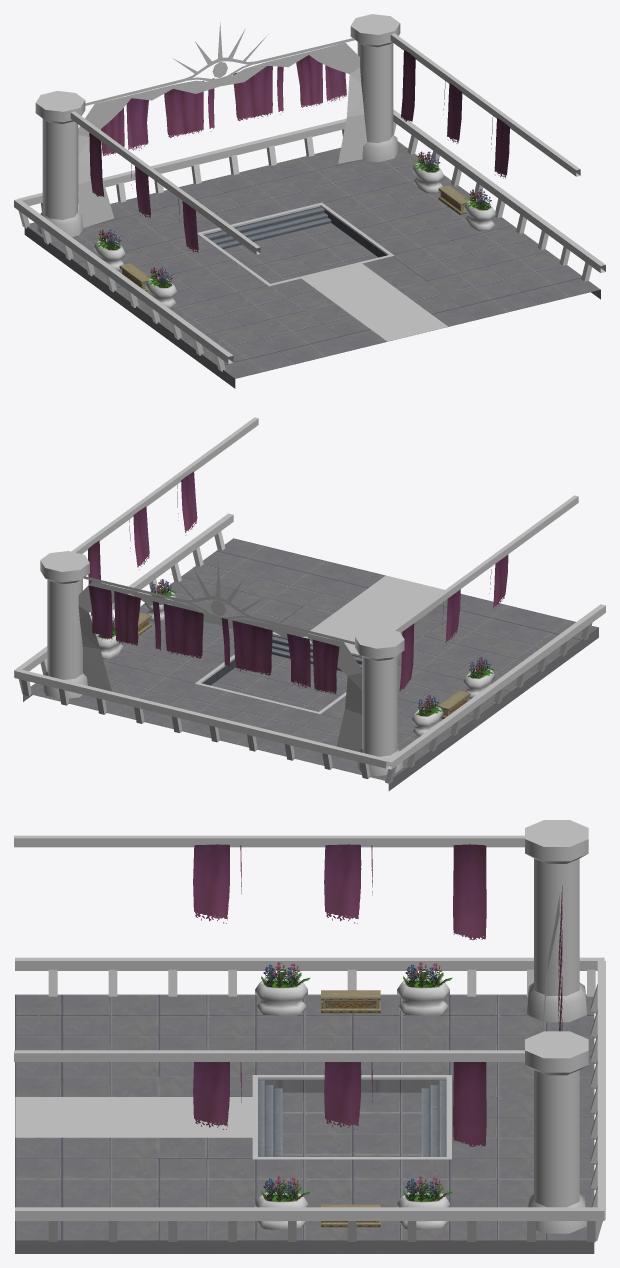
Rendered from Floor_planar_001_all.FBX.
The picture shows the model from 3 angles, top to bottom: view 1: azimuth 30°, elevation 25°; view 2: azimuth 150°, elevation 25°; view 3: azimuth 270°, elevation 25°; orthographic projection. The views are drawn at different scales.
Parts seen in each view (by area): view 1: Floor_planar_001, broad_Curtain_A001, Stone_one_001, Plane001, Stone_one_002, rail_002, rail_001, broad_Curtain_001 (×2), rail_003, topbeam_001, topbeam_002, broad_Curtain_002 (+14 smaller); view 2: Floor_planar_001, rail_003, broad_Curtain_A001, Stone_one_001, Stone_one_002, broad_Curtain_001 (×2), Plane001, rail_001, rail_002, broad_Curtain_003, broad_Curtain_002, topbeam_001 (+12 smaller); view 3: Floor_planar_001, rail_002, Stone_one_001, Stone_one_002, rail_001, Plane001, topbeam_001, topbeam_002, rail_003, Curtain_006, Curtain_001, Curtain_005 (+10 smaller).
Boxes of the visible parts, left/top/right/bottom form: Floor_planar_001: left=24, top=141, right=600, bottom=388; broad_Curtain_A001: left=78, top=42, right=366, bottom=227; Stone_one_001: left=35, top=91, right=85, bottom=238; Plane001: left=301, top=263, right=447, bottom=341; Stone_one_002: left=350, top=14, right=400, bottom=162; rail_002: left=393, top=109, right=605, bottom=281; rail_001: left=14, top=199, right=233, bottom=371; broad_Curtain_001 (×2): left=100, top=78, right=214, bottom=156; rail_003: left=18, top=118, right=346, bottom=210; topbeam_001: left=70, top=111, right=260, bottom=254; topbeam_002: left=390, top=33, right=580, bottom=176; broad_Curtain_002: left=233, top=66, right=283, bottom=120; Floor_planar_001: left=23, top=538, right=598, bottom=790; rail_003: left=14, top=670, right=388, bottom=778; broad_Curtain_A001: left=78, top=581, right=361, bottom=751; Stone_one_001: left=355, top=628, right=404, bottom=775; Stone_one_002: left=40, top=551, right=89, bottom=698; broad_Curtain_001 (×2): left=221, top=618, right=339, bottom=693; Plane001: left=301, top=575, right=444, bottom=652; rail_001: left=385, top=604, right=605, bottom=783; rail_002: left=14, top=513, right=233, bottom=694; broad_Curtain_003: left=88, top=585, right=140, bottom=645; broad_Curtain_002: left=152, top=601, right=203, bottom=658; topbeam_001: left=391, top=495, right=578, bottom=632; Floor_planar_001: left=15, top=994, right=594, bottom=1253; rail_002: left=15, top=1207, right=604, bottom=1242; Stone_one_001: left=525, top=820, right=588, bottom=1022; Stone_one_002: left=525, top=1031, right=588, bottom=1233; rail_001: left=15, top=957, right=604, bottom=996; Plane001: left=15, top=1097, right=252, bottom=1137; topbeam_001: left=14, top=835, right=524, bottom=847; topbeam_002: left=14, top=1050, right=524, bottom=1061; rail_003: left=590, top=961, right=605, bottom=1240; Curtain_006: left=453, top=844, right=486, bottom=940; Curtain_001: left=453, top=1062, right=486, bottom=1146; Curtain_005: left=193, top=844, right=241, bottom=923.
Size of the model in its own units: 3116 by 1424 by 3075.
